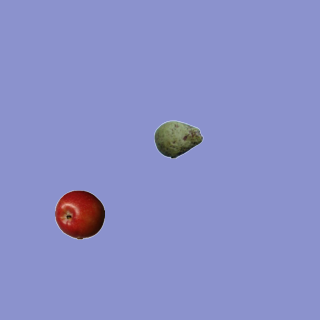Apple Braeburn: (54, 189, 104, 239)
Pear Stone: (153, 114, 203, 164)
